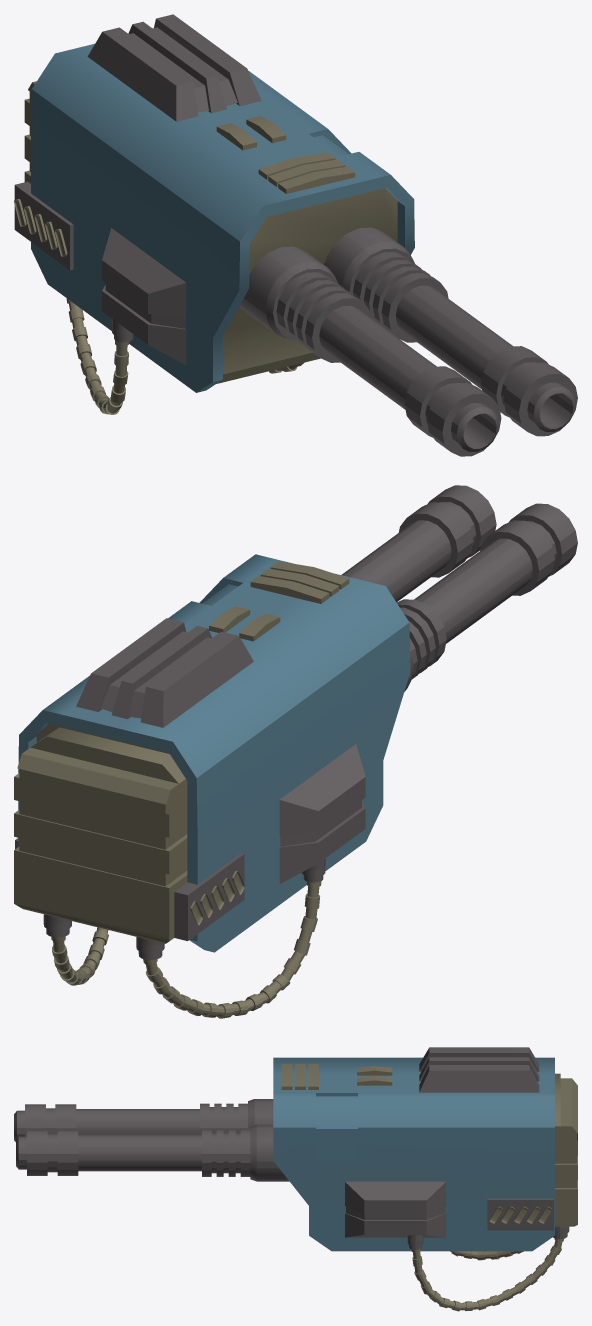
File: BaseGunUp.fbx
3 views of the same model, one above another, from view 1: azimuth 30°, elevation 25°; view 2: azimuth 150°, elevation 25°; view 3: azimuth 270°, elevation 25° (orthographic). The views are drawn at different scales.
Parts seen in each view (by area): view 1: Cube.016, Cube.001, Cube.002; view 2: Cube.016, Cube.001, Cube.002; view 3: Cube.016, Cube.002, Cube.001.
Part boxes in pixels (x1,y1,x2,y2): Cube.016: (14, 14, 414, 414); Cube.001: (239, 246, 501, 456); Cube.002: (323, 227, 577, 436); Cube.016: (14, 554, 410, 1018); Cube.001: (396, 503, 577, 691); Cube.002: (341, 485, 496, 602); Cube.016: (273, 1047, 577, 1311); Cube.002: (16, 1124, 289, 1181); Cube.001: (14, 1099, 273, 1141).
Bounding box in the file's own units: 177 × 254 × 574.
